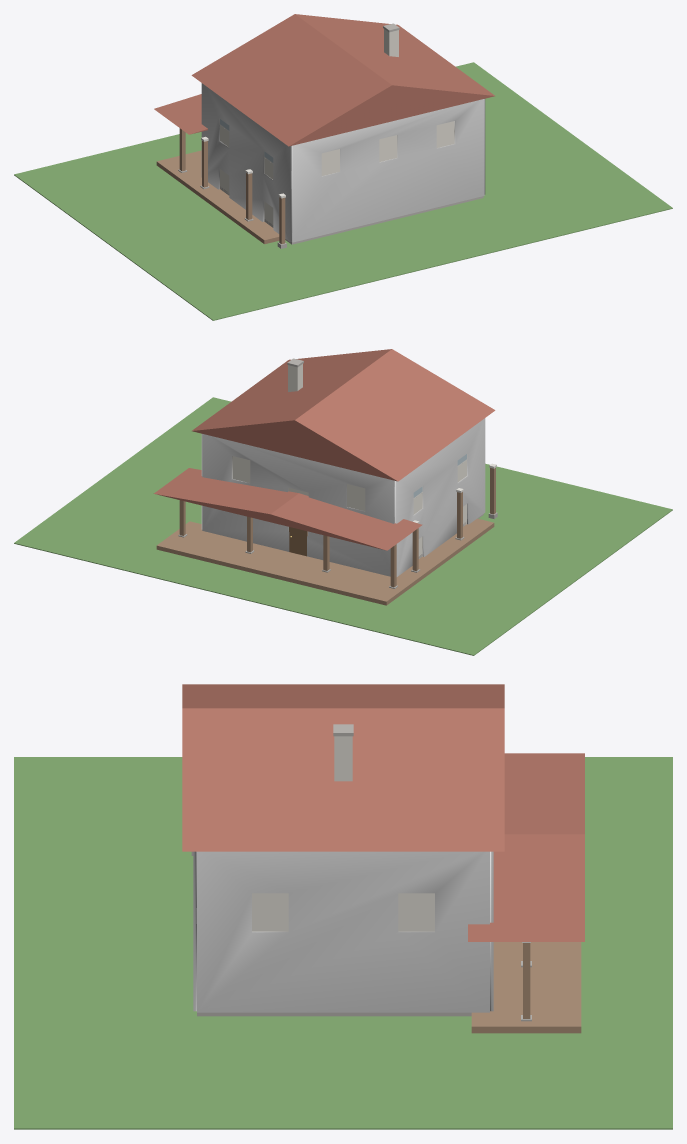
File: farmhouse.glb
3 renders of one model, top to bottom at view 1: azimuth 30°, elevation 25°; view 2: azimuth 150°, elevation 25°; view 3: azimuth 270°, elevation 25°, orthographic. The views are drawn at different scales.
Visible parts, largest first — view 1: lawn, roof, back_wall, left_wall, body, porch_side, porch_roof, porch_floor, foundation; view 2: lawn, roof, front_wall, porch_roof, left_wall, porch_floor, porch_side, body, panel; view 3: lawn, roof, right_wall, porch_roof, porch_floor, body, foundation, chimney.
Part boxes in pixels (<box>): lawn: <box>14,62,672,320</box>; roof: <box>191,14,494,146</box>; back_wall: <box>292,99,484,242</box>; left_wall: <box>201,83,291,241</box>; body: <box>220,121,454,227</box>; porch_side: <box>170,167,279,244</box>; porch_roof: <box>154,94,207,134</box>; porch_floor: <box>156,150,201,189</box>; foundation: <box>220,186,483,244</box>; lawn: <box>14,397,672,655</box>; roof: <box>192,349,495,481</box>; front_wall: <box>202,434,394,576</box>; porch_roof: <box>154,468,422,550</box>; left_wall: <box>395,418,485,576</box>; porch_floor: <box>156,521,419,605</box>; porch_side: <box>346,518,494,594</box>; body: <box>232,456,466,558</box>; panel: <box>289,527,307,556</box>; lawn: <box>14,757,672,1129</box>; roof: <box>182,684,504,851</box>; right_wall: <box>197,851,489,1012</box>; porch_roof: <box>468,753,584,941</box>; porch_floor: <box>471,942,581,1033</box>; body: <box>252,893,434,931</box>; foundation: <box>197,1012,471,1016</box>; chimney: <box>334,736,352,781</box>.
Bounding box in the file's own units: 24 × 7.65 × 18.
